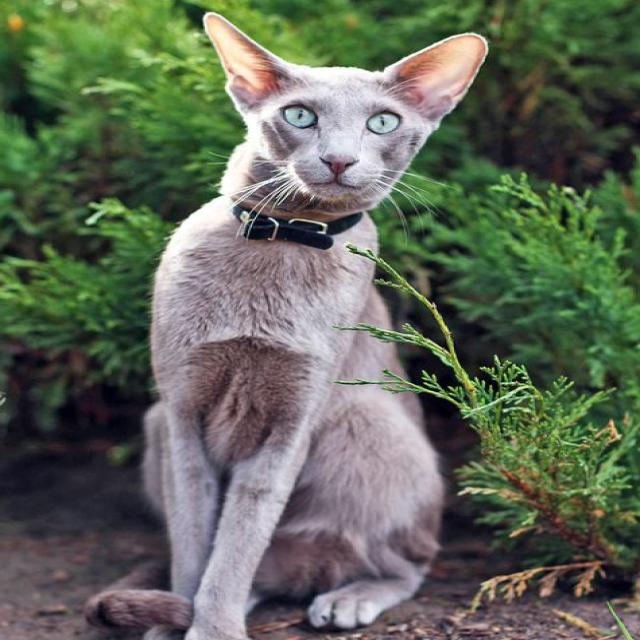Oriental: (81, 5, 492, 640)
